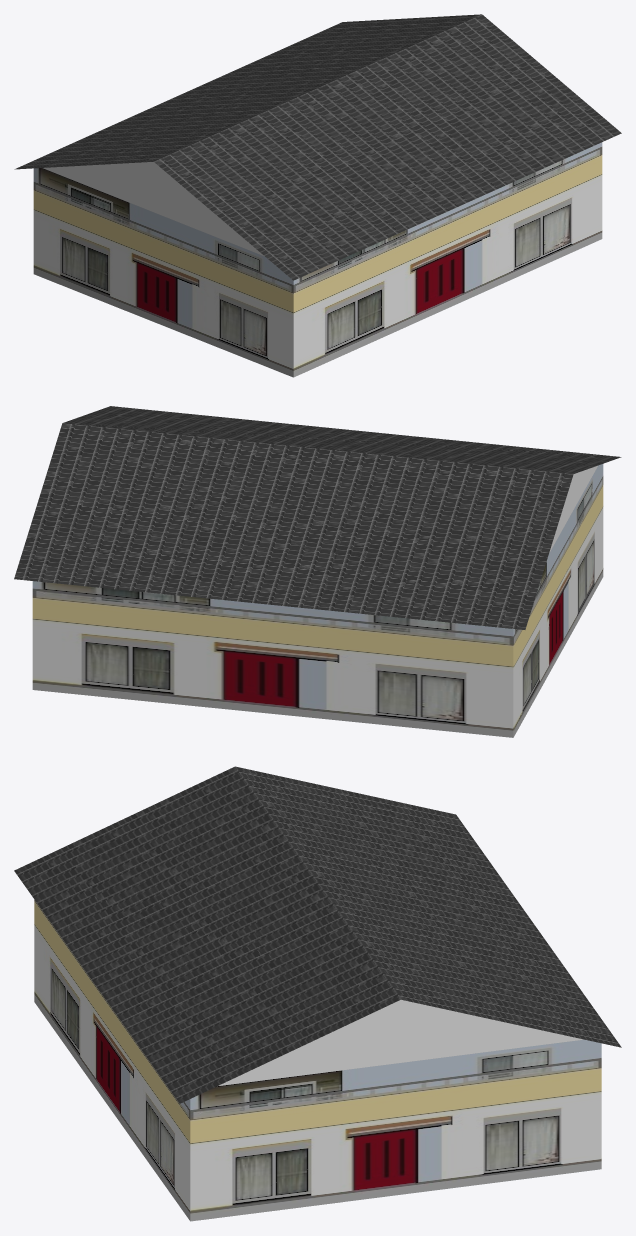
The picture shows the model from 3 angles, top to bottom: view 1: azimuth 30°, elevation 25°; view 2: azimuth 150°, elevation 25°; view 3: azimuth 270°, elevation 25°; orthographic projection. The views are drawn at different scales.
Visible parts, largest first — view 1: CityEngineMaterial_16_m, CityEngineMaterial_15_m, CityEngineMaterial_3_m; view 2: CityEngineMaterial_16_m, CityEngineMaterial_15_m, CityEngineMaterial_3_m; view 3: CityEngineMaterial_16_m, CityEngineMaterial_15_m, CityEngineMaterial_3_m.
Boxes of the visible parts, left/top/right/bottom form: CityEngineMaterial_16_m: left=14, top=14, right=621, bottom=280; CityEngineMaterial_15_m: left=33, top=142, right=602, bottom=377; CityEngineMaterial_3_m: left=43, top=162, right=264, bottom=256; CityEngineMaterial_16_m: left=14, top=406, right=621, bottom=629; CityEngineMaterial_15_m: left=32, top=464, right=603, bottom=737; CityEngineMaterial_3_m: left=549, top=465, right=597, bottom=552; CityEngineMaterial_16_m: left=14, top=766, right=621, bottom=1103; CityEngineMaterial_15_m: left=34, top=900, right=601, bottom=1221; CityEngineMaterial_3_m: left=218, top=1000, right=583, bottom=1085.
Size of the model in its own units: 39.72 by 12.97 by 35.26.
